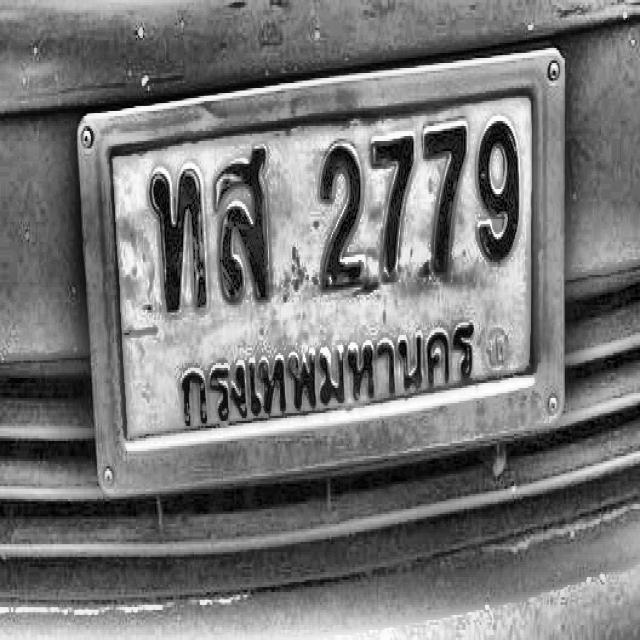license-plate: (67, 23, 574, 518)
